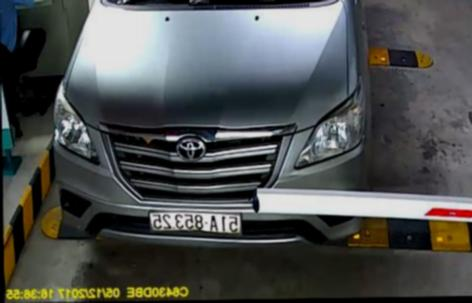License_Plate: (147, 202, 249, 241)
